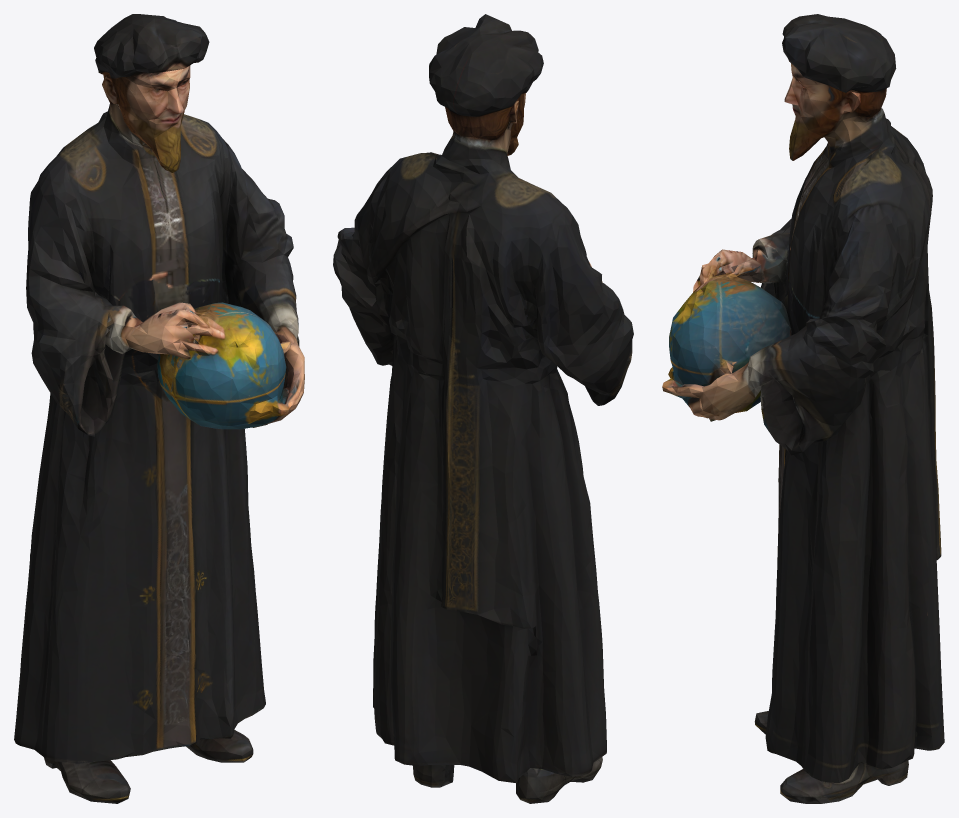
The model's file is nicolaus_copernicus_3_0516150032_texture.fbx.
3 renders of one model, left to right at view 1: azimuth 30°, elevation 25°; view 2: azimuth 150°, elevation 25°; view 3: azimuth 270°, elevation 25°, orthographic.
Visible parts, largest first — view 1: temp; view 2: temp; view 3: temp.
Part boxes in pixels (bbox=[...]): temp: bbox=[14, 14, 304, 803]; temp: bbox=[333, 14, 633, 803]; temp: bbox=[662, 14, 944, 803].
Bounding box in the file's own units: 76.53 × 200 × 69.03.
1 material, 1 textured.
